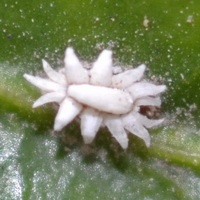insect: (24, 47, 166, 148)
